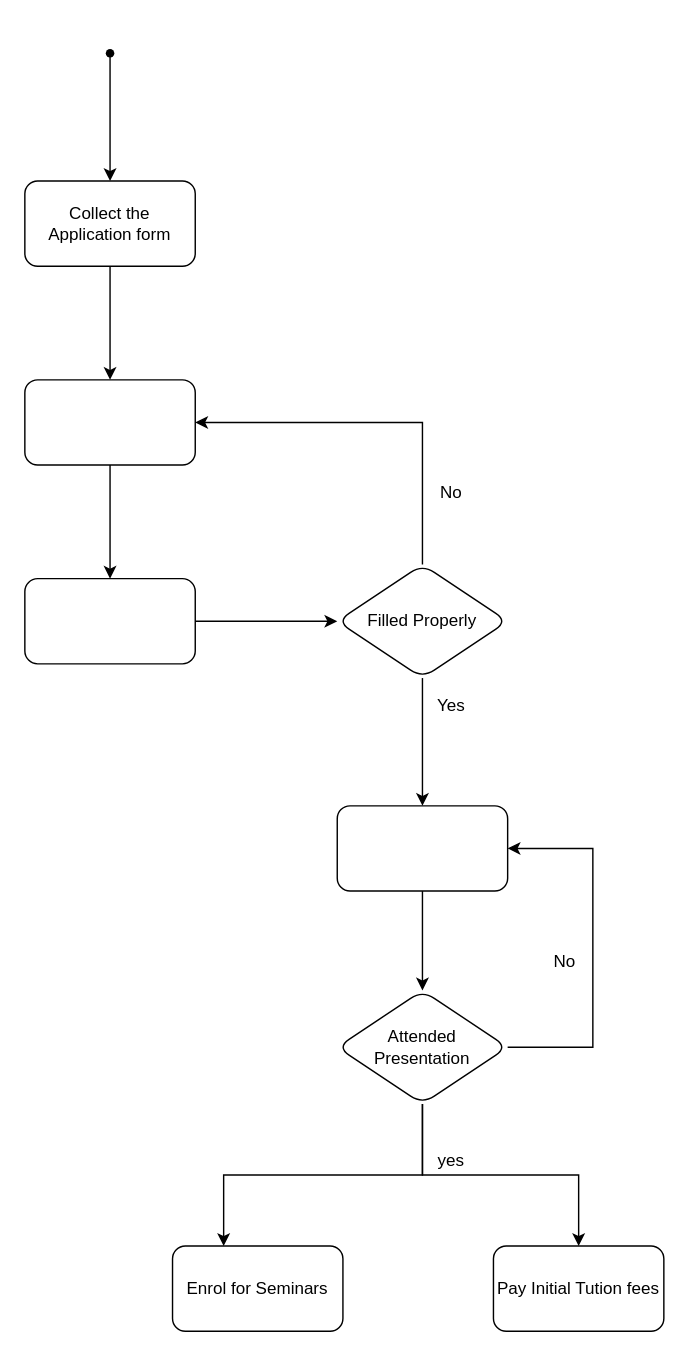
This 689x1356 diagram has some shape labels left out. The box of each missing label's shape, as (x1, y1, x2, y2) in pixels:
Attend Overview Presentation: (336, 804, 508, 891)
Filled-out the Enrolment form: (23, 378, 195, 465)
Inspection from Registrar: (23, 577, 195, 664)
